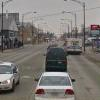Car: (29, 65, 86, 100)
